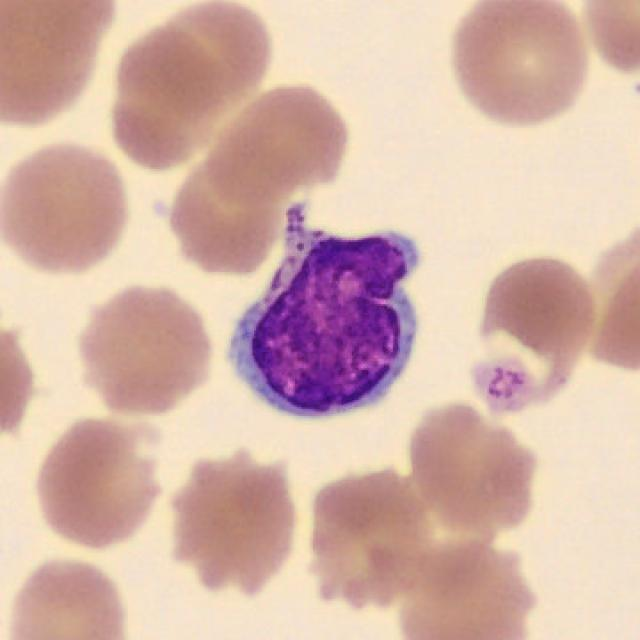Linfocito atipico: (233, 210, 420, 418)
